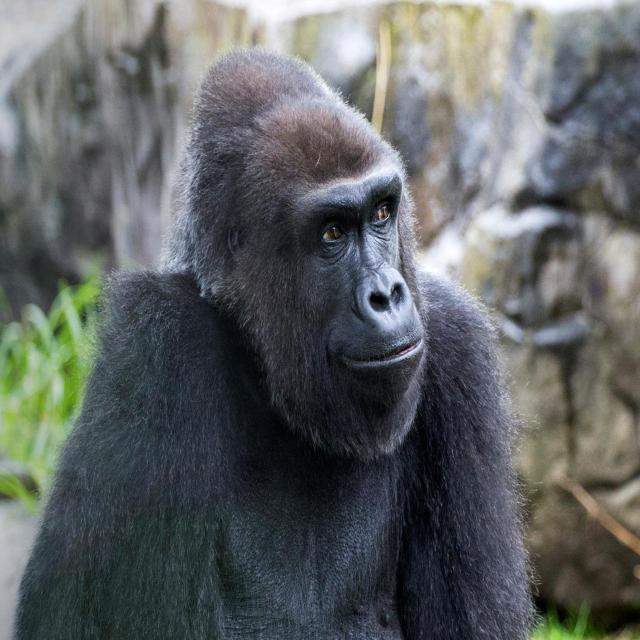Gorilla: (34, 51, 526, 640)
